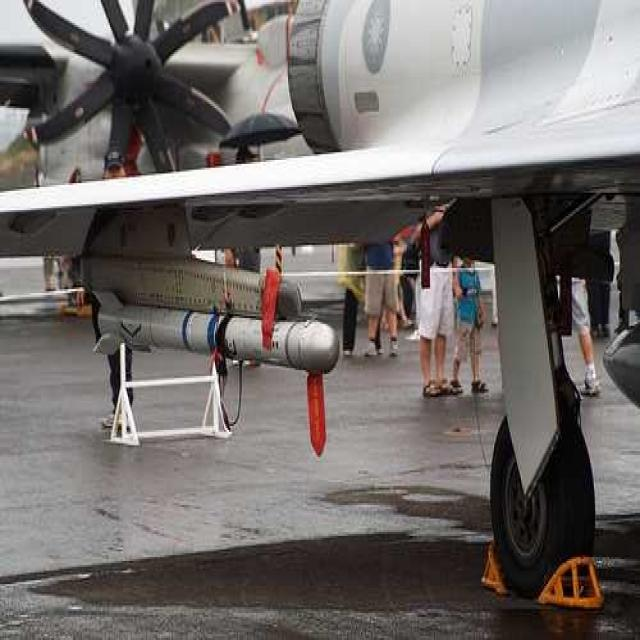missile: (90, 292, 344, 380)
